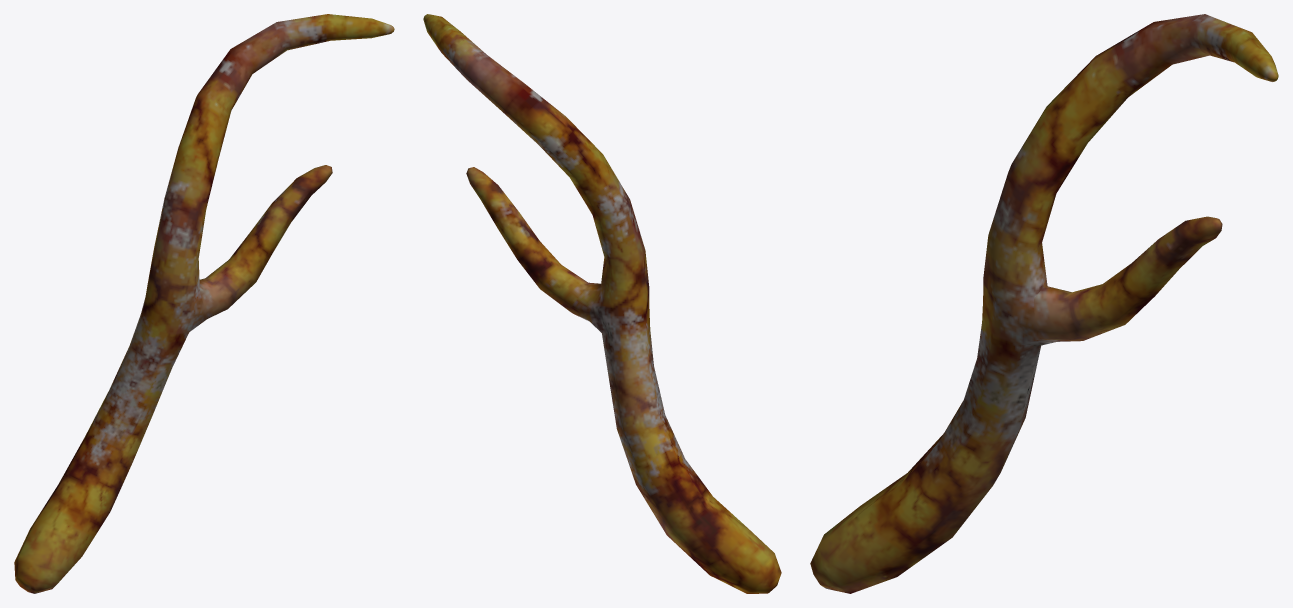
Rendered from Mutation4.fbx.
3 views of the same model, side by side, from view 1: azimuth 30°, elevation 25°; view 2: azimuth 150°, elevation 25°; view 3: azimuth 330°, elevation 25° (orthographic). The views are drawn at different scales.
Visible parts, largest first — view 1: P_Mutation04.mo; view 2: P_Mutation04.mo; view 3: P_Mutation04.mo.
Boxes of the visible parts, bbox=[...] form: P_Mutation04.mo: bbox=[14, 14, 394, 593]; P_Mutation04.mo: bbox=[423, 14, 781, 593]; P_Mutation04.mo: bbox=[810, 14, 1278, 593].
Size of the model in its own units: 56.17 by 72.76 by 11.31.
